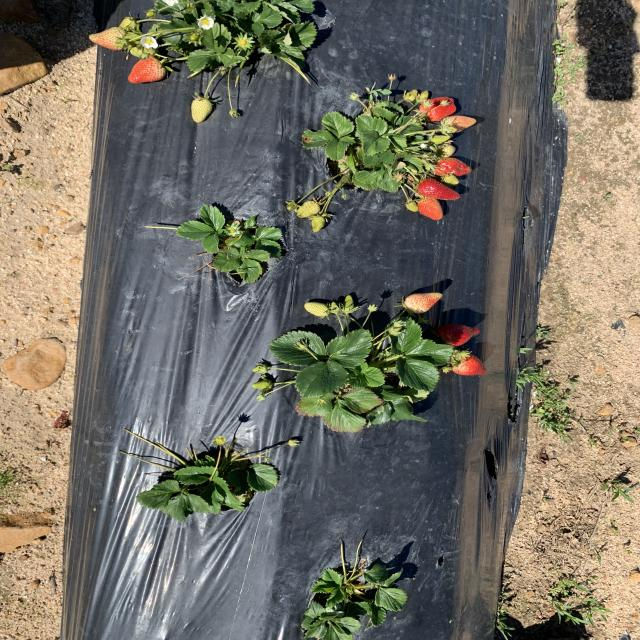unripe: (126, 55, 166, 83), (418, 177, 460, 201), (438, 322, 480, 345), (418, 96, 456, 120), (454, 355, 488, 377), (434, 158, 472, 177), (418, 196, 445, 220)
